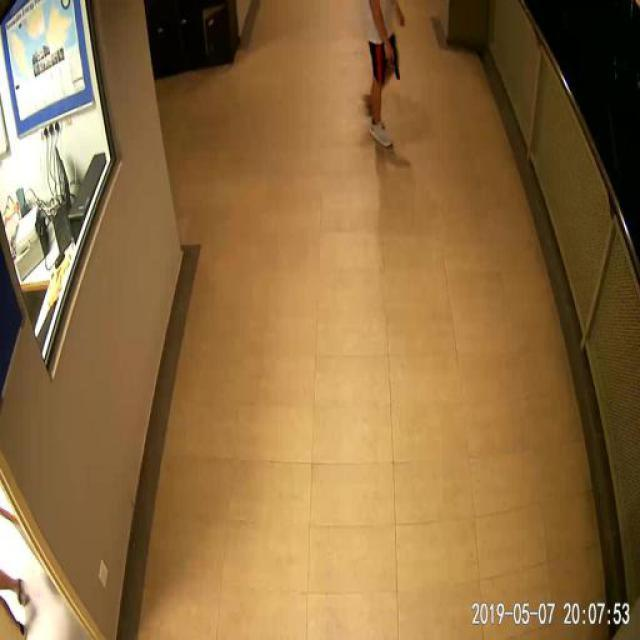weapon: (388, 46, 402, 80)
